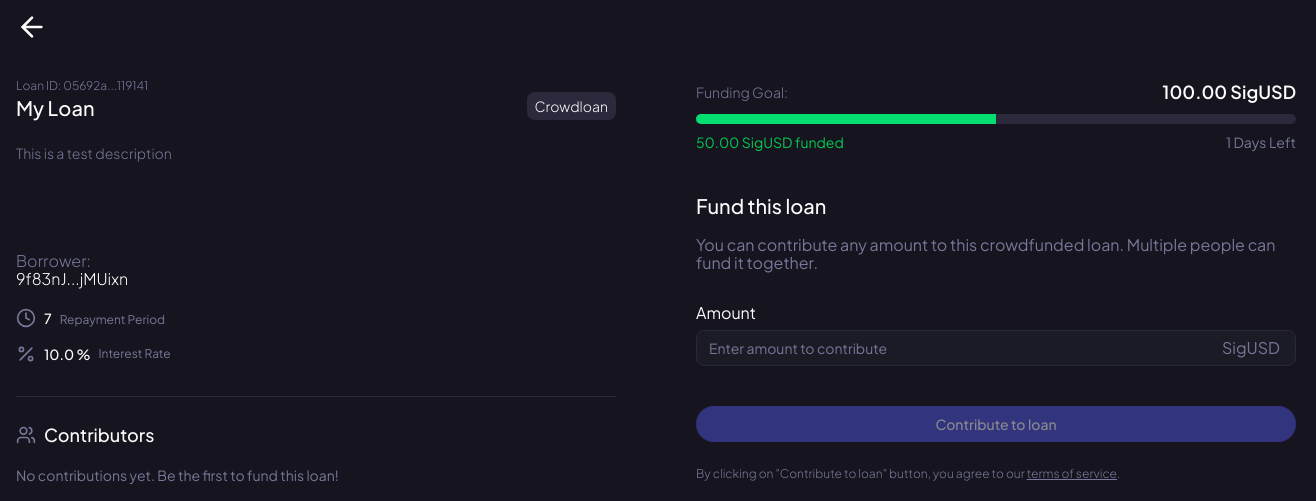
Test case: LoanDetails › Crowdloan - Funding › should enable Contribute button when amount is entered
Type "25" into the number field.
click(996, 348); type("25")  # box [696,330,1296,366]
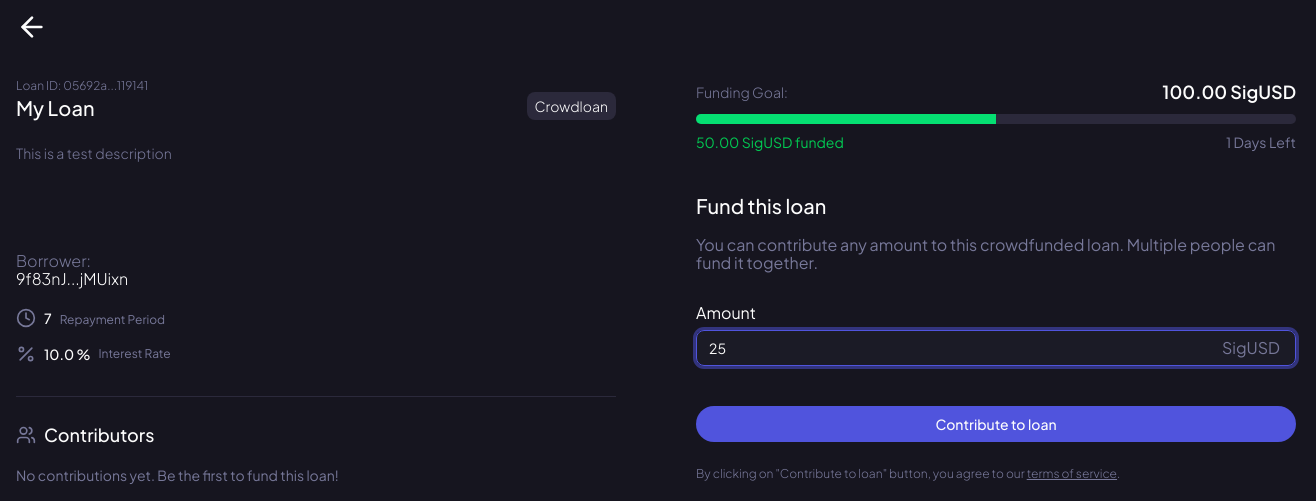
Expected: the button "Contribute to loan" is enabled, [696,406,1296,442]
